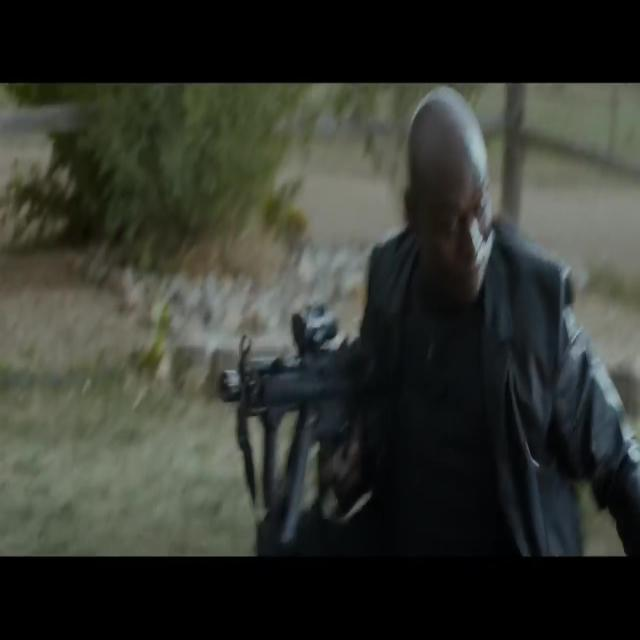Weapon: (189, 261, 448, 567)
